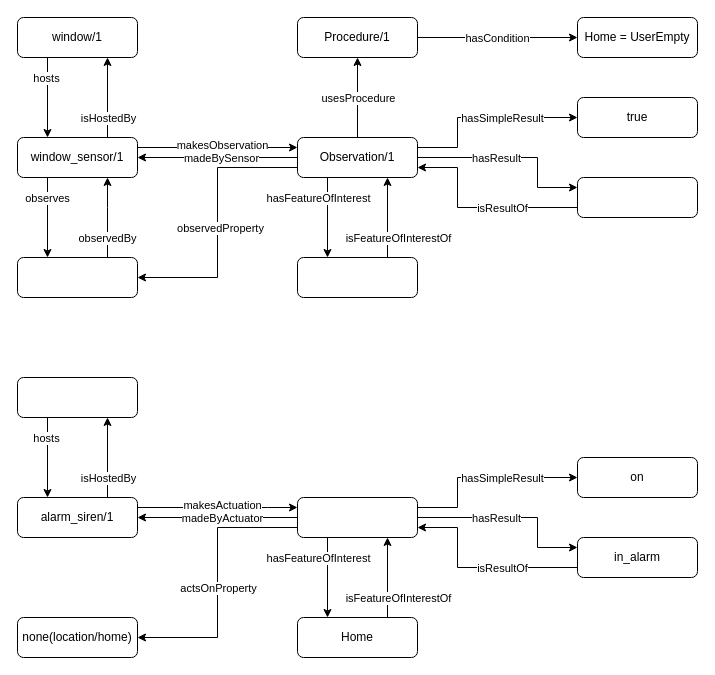
The diagram is 715 pixels wide and 675 high, and some of its shapes have lost their labels. The centre of each missing label's shape, as x and y in pixels:
Actuation/1: the point at 357,517
in_danger: the point at 637,197
openable: the point at 77,277
room/corridor: the point at 77,397
window/1.location: the point at 357,277
